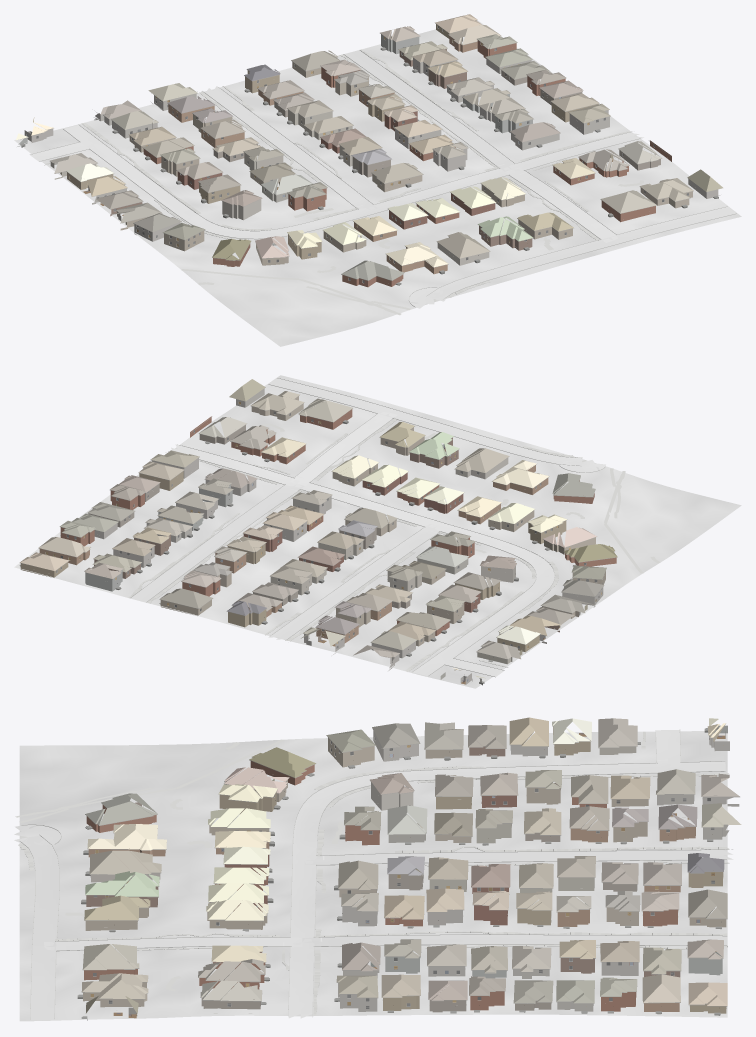
3 renders of one model, top to bottom at view 1: azimuth 30°, elevation 25°; view 2: azimuth 150°, elevation 25°; view 3: azimuth 270°, elevation 25°, orthographic. The views are drawn at different scales.
Parts seen in each view (by area): view 1: ground, roof, concrete, wall, detail, walk, wall_stucco, wall_stone, curb, glass; view 2: ground, roof, concrete, wall, detail, wall_stucco, walk, curb, wall_stone, glass; view 3: ground, roof, concrete, wall, walk, wall_stucco, detail, wall_stone, curb, glass.
Part boxes in pixels (x1,y1,x2,y2): ground: [14, 20, 741, 346]; roof: [16, 14, 722, 280]; concrete: [30, 50, 735, 308]; wall: [67, 20, 671, 287]; detail: [20, 20, 718, 285]; walk: [45, 49, 643, 315]; wall_stucco: [17, 30, 692, 265]; wall_stone: [24, 55, 720, 241]; curb: [30, 50, 736, 306]; glass: [36, 26, 688, 282]; ground: [14, 375, 741, 688]; roof: [20, 379, 617, 678]; concrete: [130, 378, 605, 676]; wall: [20, 409, 616, 653]; detail: [19, 387, 617, 685]; wall_stucco: [85, 396, 595, 664]; walk: [128, 418, 660, 671]; curb: [130, 378, 605, 677]; wall_stone: [94, 389, 603, 684]; glass: [56, 411, 602, 648]; ground: [19, 730, 727, 1021]; roof: [81, 717, 741, 1013]; concrete: [14, 730, 733, 1020]; wall: [84, 726, 726, 1013]; walk: [15, 731, 729, 1015]; wall_stucco: [83, 725, 727, 1007]; detail: [77, 725, 739, 1020]; wall_stone: [137, 731, 739, 1015]; curb: [19, 729, 732, 1019]; glass: [93, 727, 718, 1008].
Bounding box in the file's own units: 258 × 20.23 × 257.
